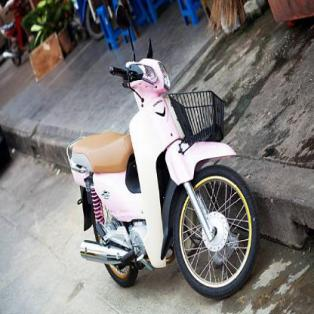Motocicleta: (58, 41, 262, 300)
